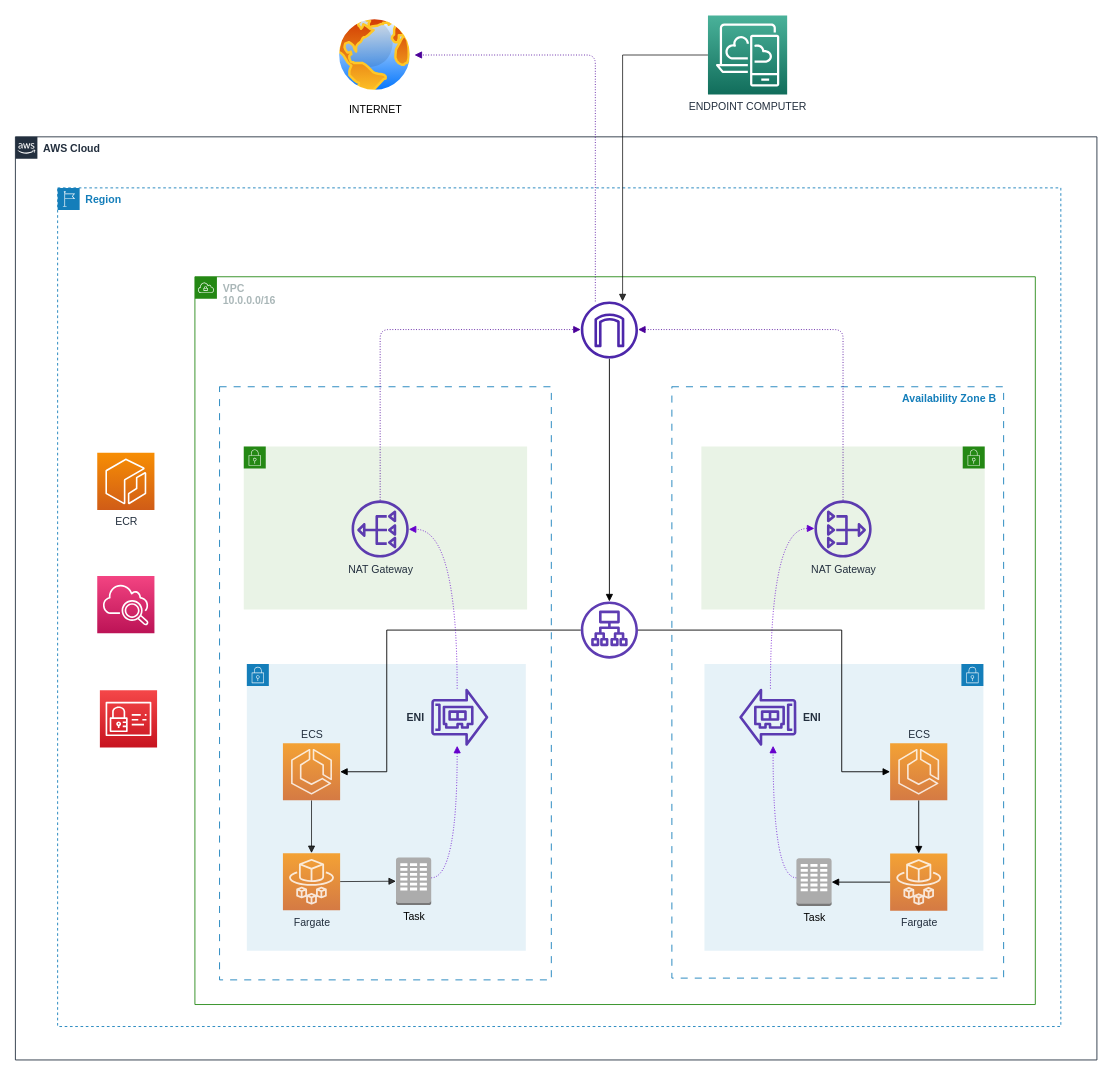
Some shapes in this 1112 by 1075 pixel diagram are drawn without their labels. The shapes that lost their labels are listed below. From the top down, each one's box as (x1, y1, x2, y2) in pixels, then its label:
(580, 301, 638, 358): Internet Gateway
(243, 446, 527, 609): Public Subnet A 10.0.1.0/24
(700, 446, 985, 609): Public Subnet B 10.0.3.0/24
(96, 575, 154, 633): CloudWatch
(580, 601, 638, 658): Application Loab Balancer
(219, 386, 551, 980): Availability Zone A
(99, 689, 157, 748): IAM
(246, 663, 526, 951): Private subnet A 10.0.2.0/24
(704, 663, 983, 951): Private subnet B 10.0.4.0/24
